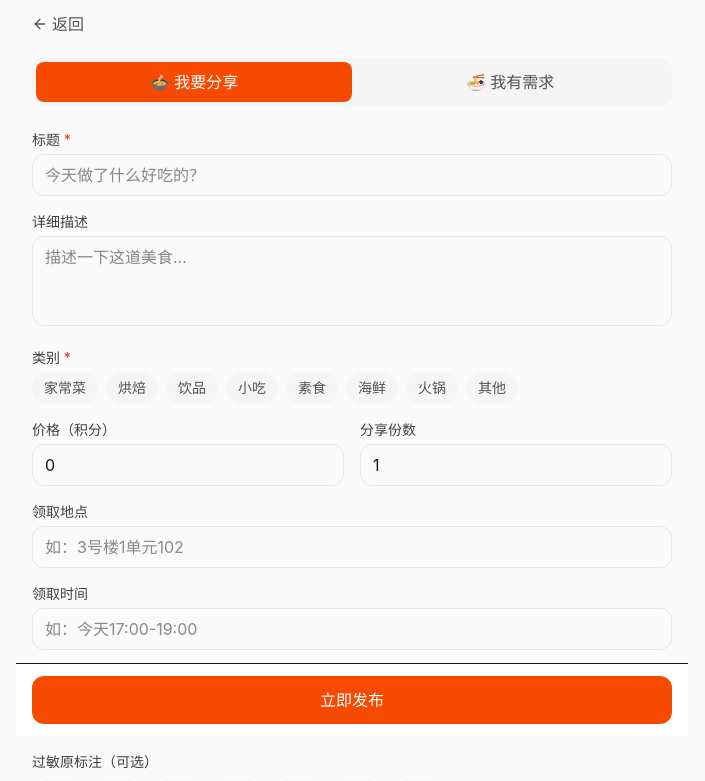
Test: SharedKitchen/Create 发布美食表单 › offer 类型显示领取地点/领取时间/领取方式/过敏原，切换到 need 类型隐藏
Expected: the field with placeholder "如：3号楼1单元102" is shown, [32, 526, 672, 568]
Expected: the field with placeholder "如：今天17:00-19:00" is shown, [32, 608, 672, 650]
# 切换到 need
Click the button "🍜 我有需求".
click(510, 82)  # box [352, 62, 668, 102]
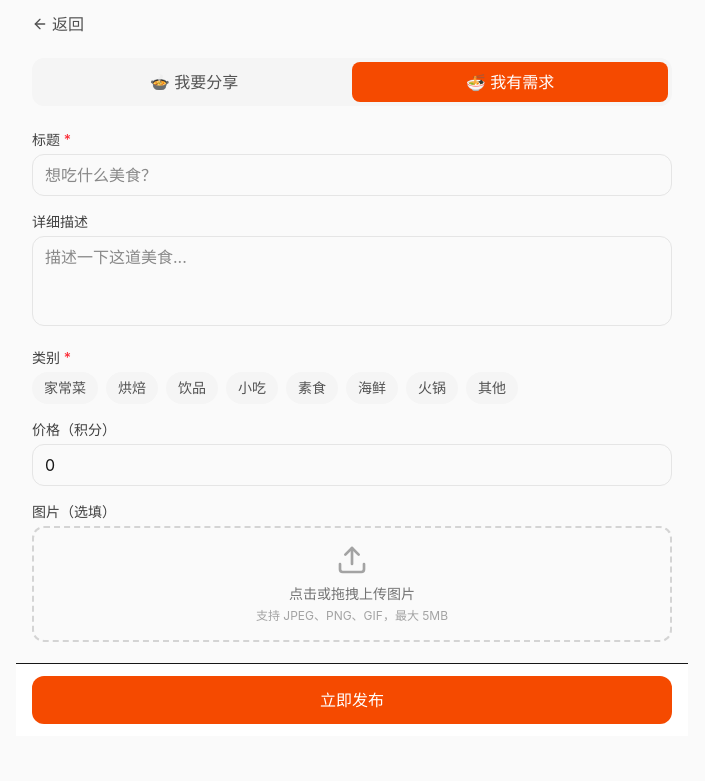
Expected: the field with placeholder "如：今天17:00-19:00" is not shown
Now the field with placeholder "如：3号楼1单元102" is gone
